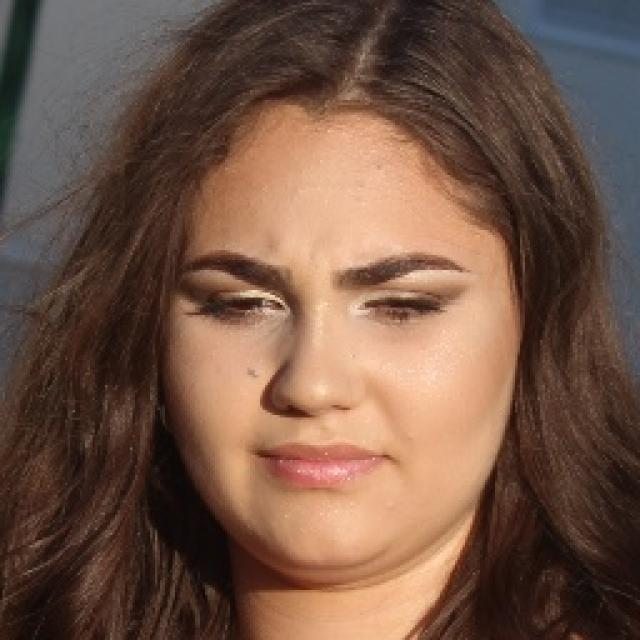eye: (206, 286, 286, 318), (361, 290, 444, 320)
nose: (269, 390, 360, 453)
